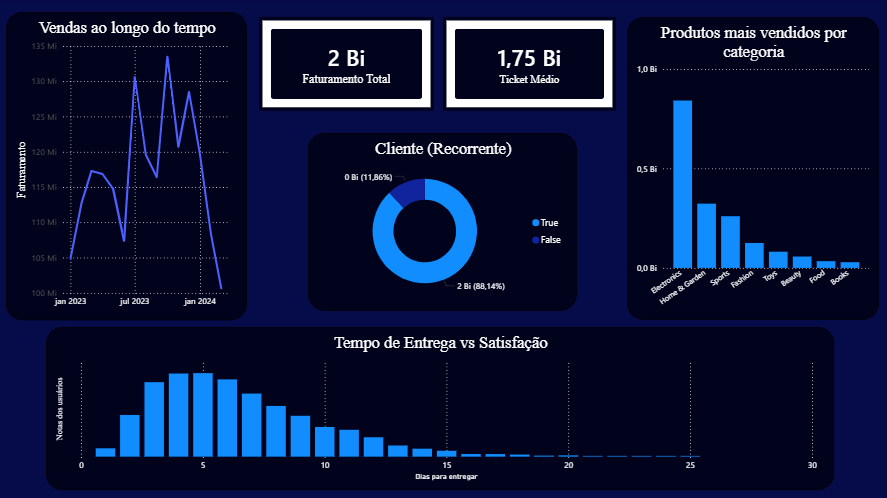

The page's visual inventory and layout, read from the dashboard file:
{"tool":"powerbi","page":{"name":"Página 1","canvas":[1280,720],"ordinal":0},"visuals":[{"type":"lineChart","title":"Vendas ao longo do tempo","fields":{"Category":["sales.Month"],"Y":["Sum(sales.Total_Amount)"]},"box":[10.1,18.7,347,443.5],"z":0},{"type":"cardVisual","fields":{"Data":["Sum(sales.Total_Amount)"]},"box":[374.4,25.9,252,135.4],"z":1000},{"type":"cardVisual","fields":{"Data":["Sum(sales.Ticket_Medio)"]},"box":[639.4,25.9,249.1,135.4],"z":2000},{"type":"donutChart","title":"Cliente (Recorrente)","fields":{"Category":["sales.Is_Returning_Customer"],"Y":["Sum(sales.Total_Amount)"]},"box":[445,193,387.4,256.3],"z":3000},{"type":"lineClusteredColumnComboChart","title":"Produtos mais vendidos por categoria","fields":{"Category":["sales.Product_Category"],"Y":["Sum(sales.Total_Amount)"]},"box":[904.3,25.9,362.9,436.3],"z":4000},{"type":"lineStackedColumnComboChart","title":"Tempo de Entrega vs Satisfação","fields":{"Category":["sales.Delivery_Time_Days"],"Y":["Sum(sales.Customer_Rating)"]},"box":[67.7,472.3,1134.7,234.7],"z":5000}]}

Visuals, with their boxes in screenshot pixels (x1, y1, x2, y2), scaled from the page's 1280x720 canvas onto the 887x498 screenshot:
"Vendas ao longo do tempo" lineChart: x1=7, y1=13, x2=247, y2=320
cardVisual - Sum(sales.Total_Amount): x1=259, y1=18, x2=434, y2=112
cardVisual - Sum(sales.Ticket_Medio): x1=443, y1=18, x2=616, y2=112
"Cliente (Recorrente)" donutChart: x1=308, y1=133, x2=577, y2=311
"Produtos mais vendidos por categoria" lineClusteredColumnComboChart: x1=627, y1=18, x2=878, y2=320
"Tempo de Entrega vs Satisfação" lineStackedColumnComboChart: x1=47, y1=327, x2=833, y2=489
